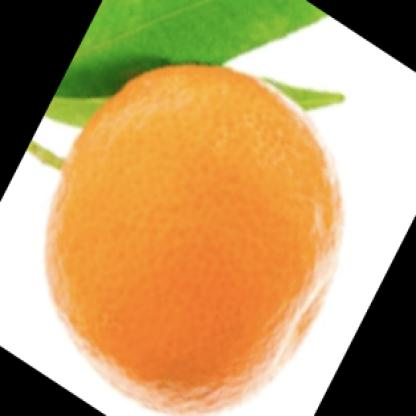fresh: (47, 65, 338, 408)
